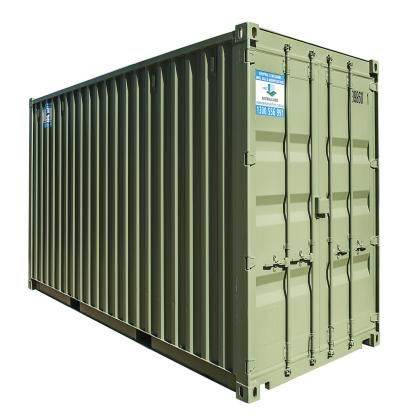Damage: (233, 267, 244, 328), (167, 297, 193, 315), (139, 286, 153, 297)
